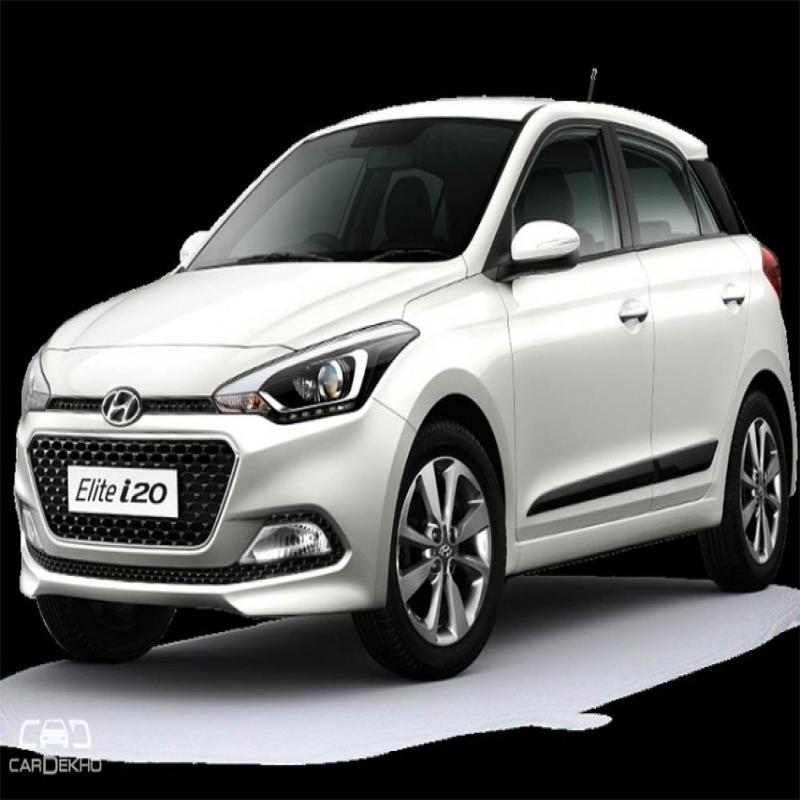car: (0, 74, 777, 668)
